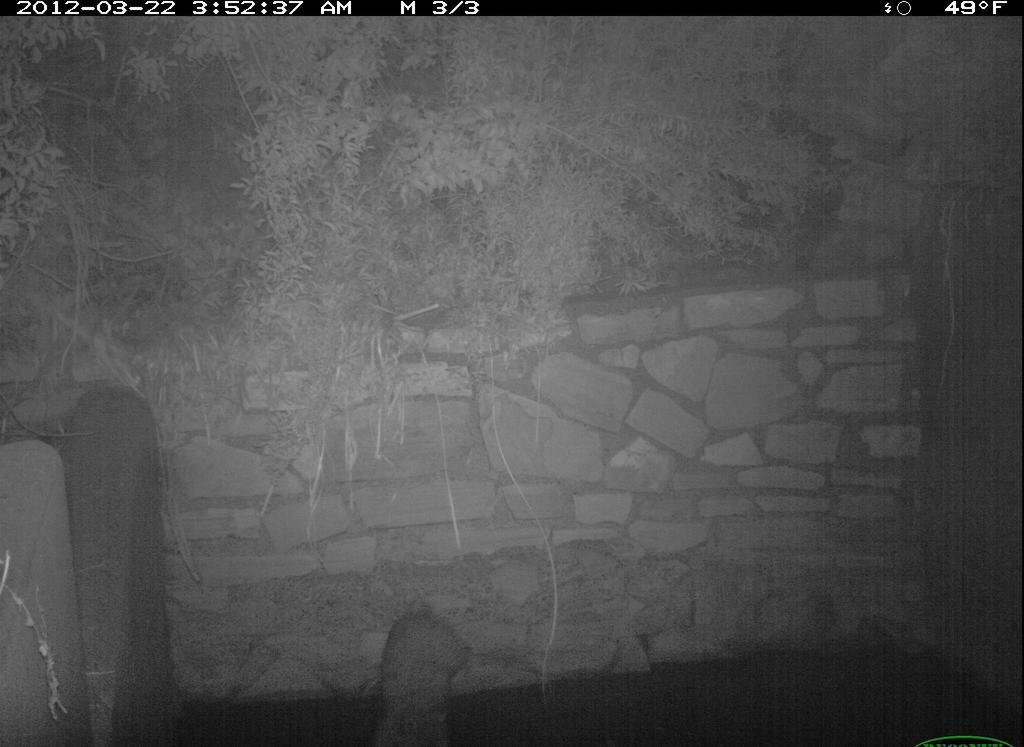raccoon: (363, 609, 484, 747)
